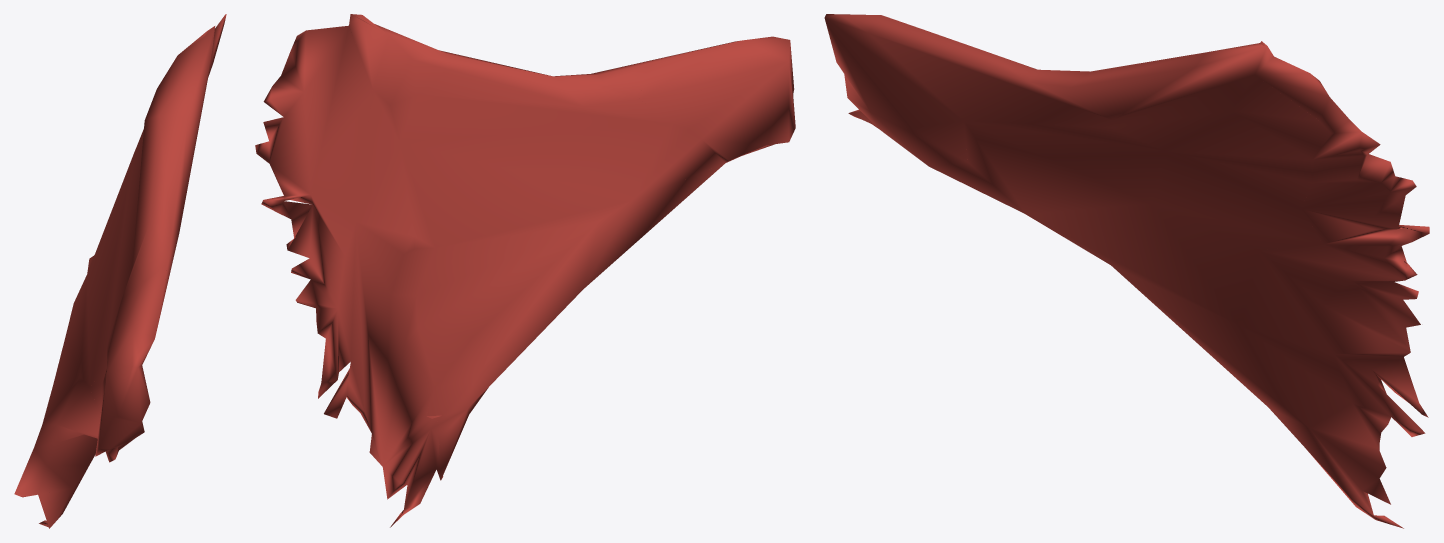
The model's file is musculos-risorius-muscle-l.glb.
3 renders of one model, left to right at view 1: azimuth 30°, elevation 25°; view 2: azimuth 150°, elevation 25°; view 3: azimuth 270°, elevation 25°, orthographic. The views are drawn at different scales.
Parts seen in each view (by area): view 1: Risorius muscle.l; view 2: Risorius muscle.l; view 3: Risorius muscle.l.
Boxes of the visible parts, left/top/right/bottom form: Risorius muscle.l: left=14, top=14, right=226, bottom=528; Risorius muscle.l: left=255, top=14, right=795, bottom=527; Risorius muscle.l: left=824, top=14, right=1429, bottom=528.
Size of the model in its own units: 0.0196 by 0.0269 by 0.0274.
